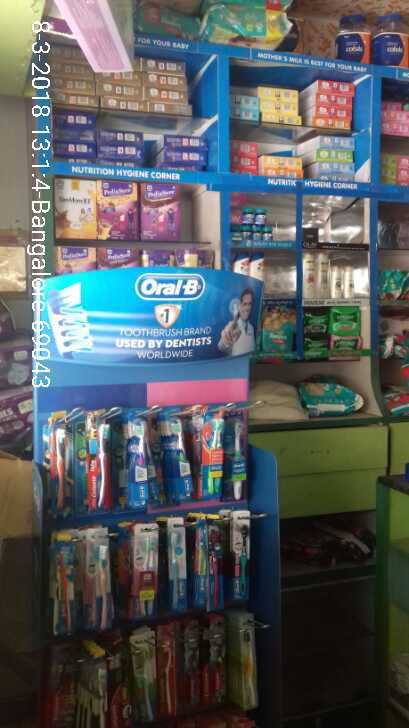pharmacy: (45, 510, 262, 620), (48, 408, 250, 517), (227, 201, 289, 242), (257, 306, 300, 356)
